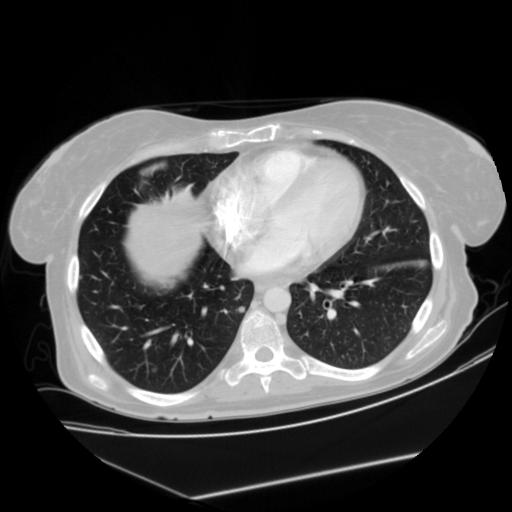nodule: (235, 303, 249, 317)
